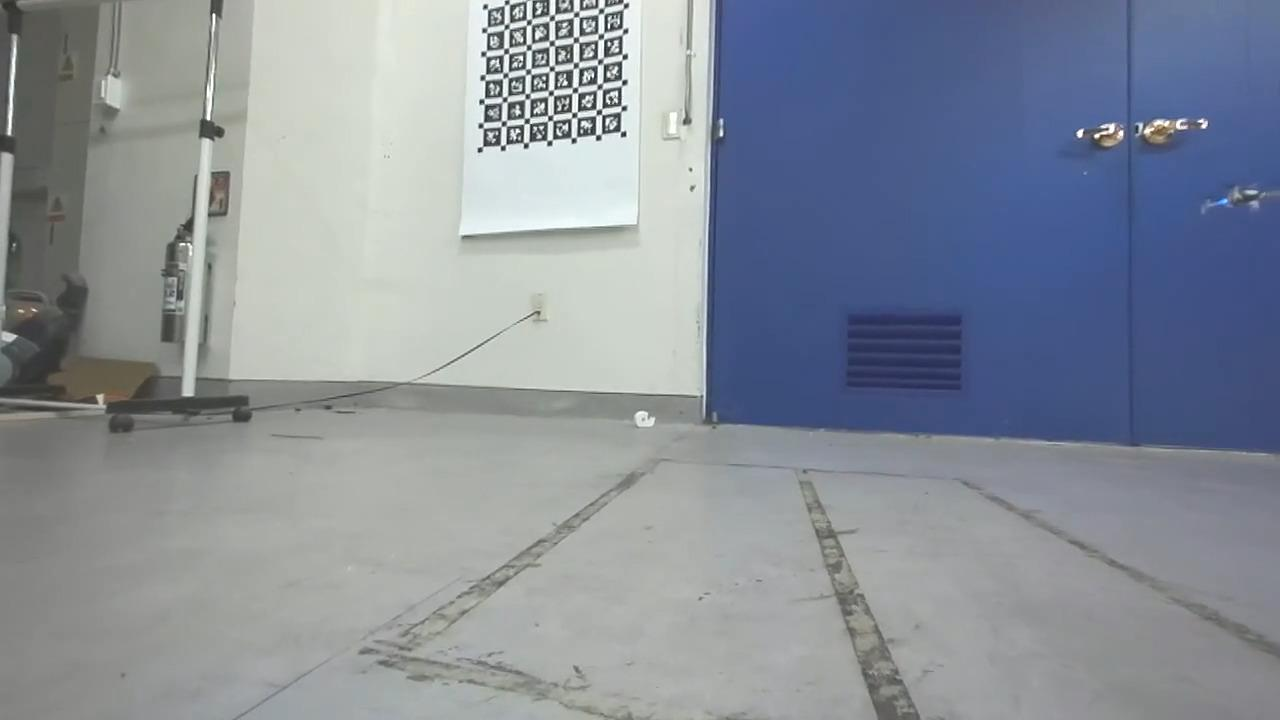crazyflie: (1198, 178, 1280, 216)
